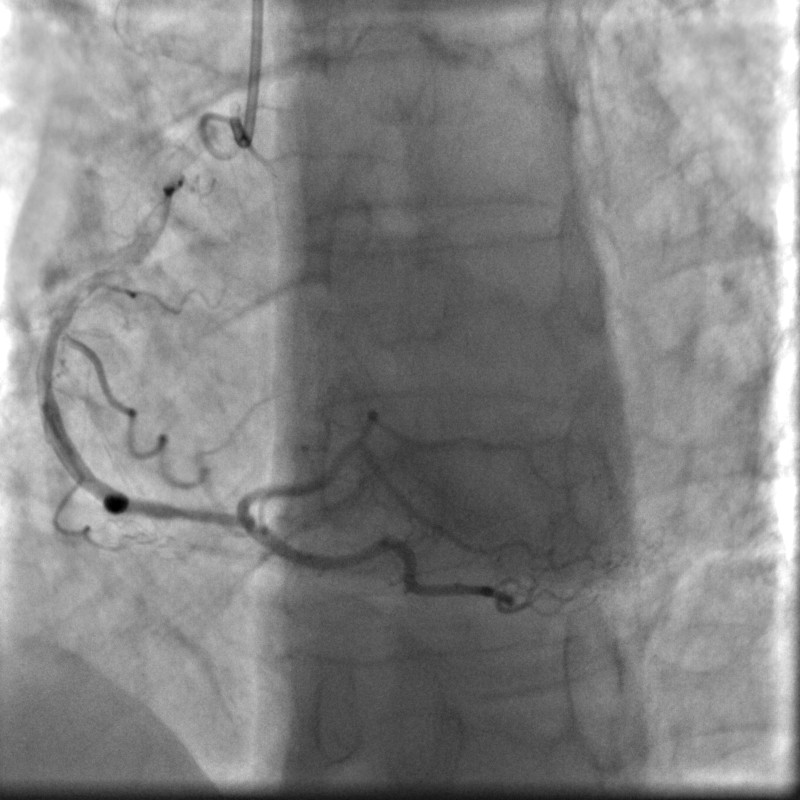Stenosis: (158, 493, 243, 537)
